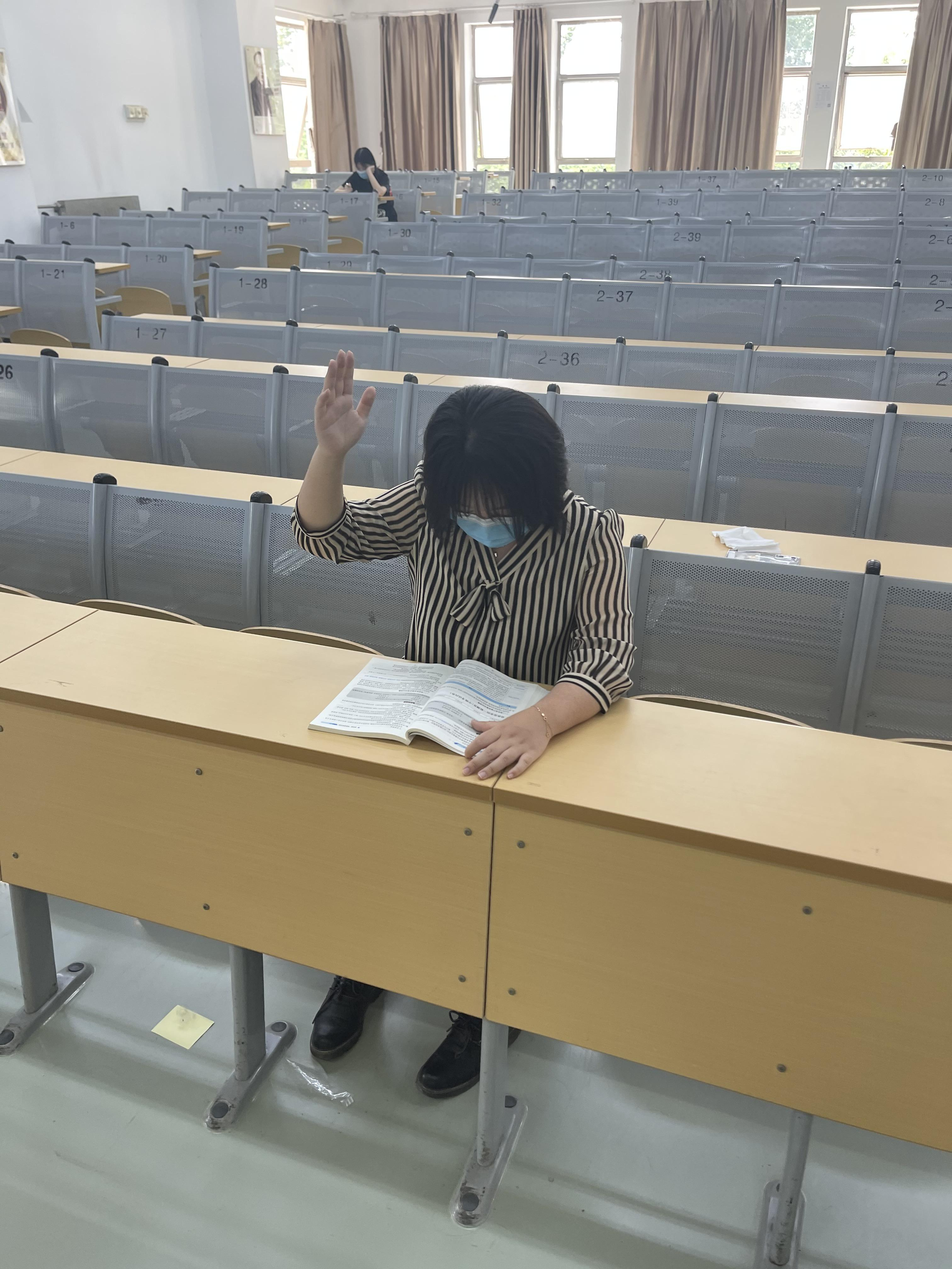study: (292, 350, 635, 782)
